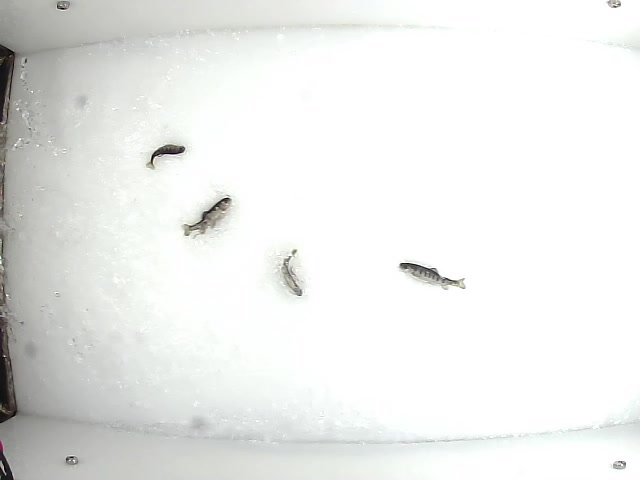fish: (397, 260, 467, 295), (180, 195, 235, 237), (276, 248, 306, 298), (144, 142, 187, 171)
